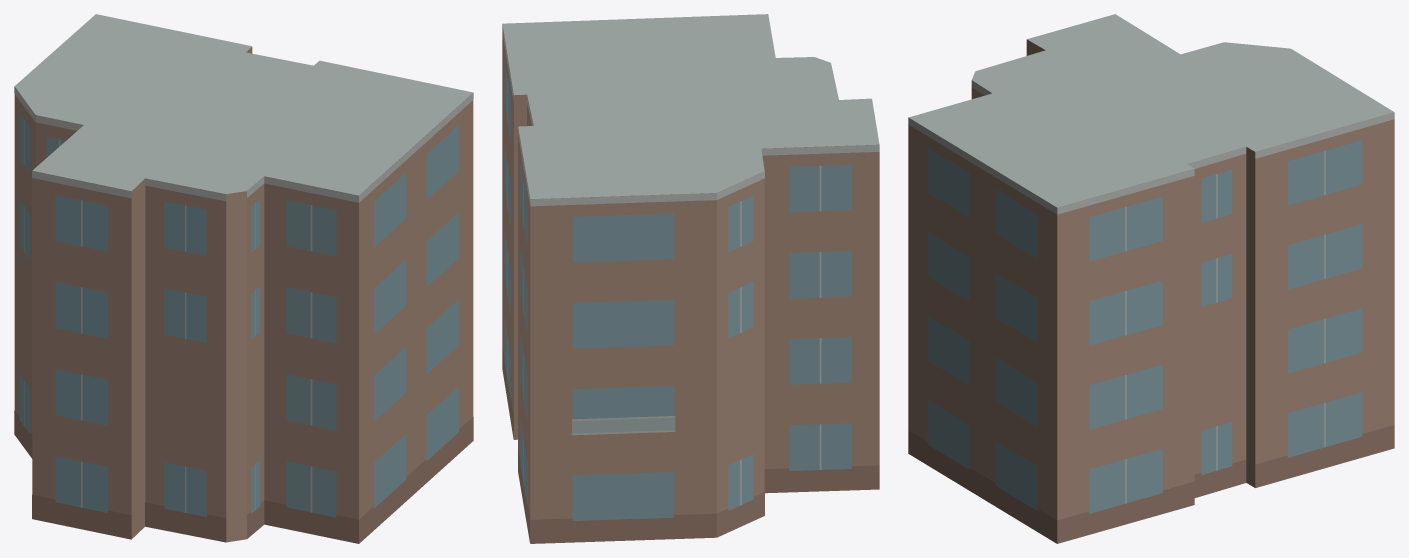
File: survey-upis-32748177.glb
The picture shows the model from 3 angles, left to right: view 1: azimuth 30°, elevation 25°; view 2: azimuth 150°, elevation 25°; view 3: azimuth 270°, elevation 25°; orthographic projection. The views are drawn at different scales.
Visible parts, largest first — view 1: survey-upis-32748177.tmp; view 2: survey-upis-32748177.tmp; view 3: survey-upis-32748177.tmp.
Boxes of the visible parts, <box> form: survey-upis-32748177.tmp: <box>14,14,473,543</box>; survey-upis-32748177.tmp: <box>502,14,879,543</box>; survey-upis-32748177.tmp: <box>908,14,1394,543</box>.
Bounding box in the file's own units: 14.46 × 11.7 × 15.34.
